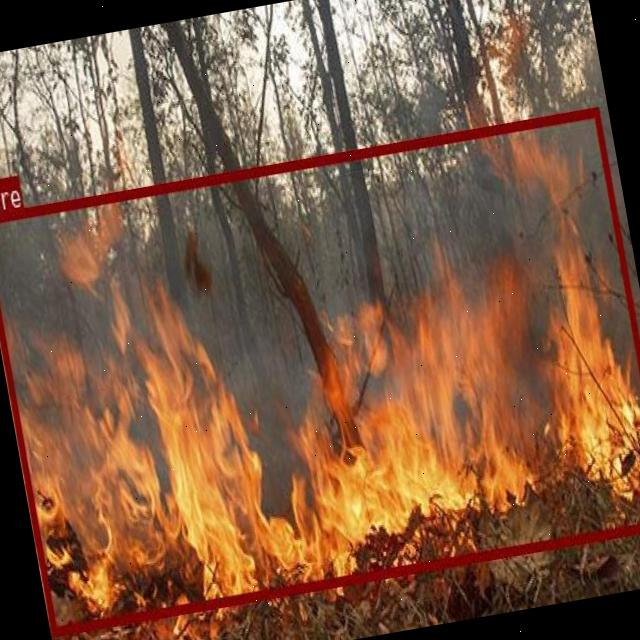fire: (0, 104, 640, 634)
